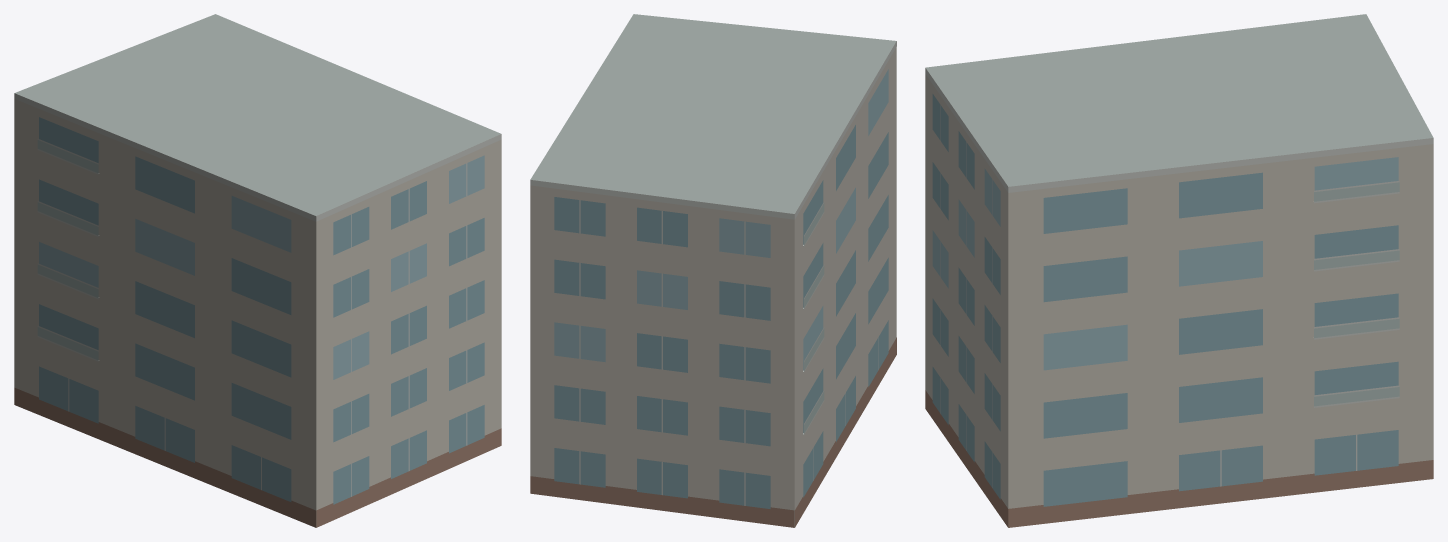
The model's file is survey-upis-32651562.glb.
3 views of the same model, side by side, from view 1: azimuth 30°, elevation 25°; view 2: azimuth 150°, elevation 25°; view 3: azimuth 270°, elevation 25° (orthographic). The views are drawn at different scales.
Parts seen in each view (by area): view 1: survey-upis-32651562.tmp; view 2: survey-upis-32651562.tmp; view 3: survey-upis-32651562.tmp.
Part boxes in pixels (x1,y1,x2,y2): survey-upis-32651562.tmp: [14, 14, 501, 527]; survey-upis-32651562.tmp: [530, 14, 896, 527]; survey-upis-32651562.tmp: [925, 14, 1433, 527].
Bounding box in the file's own units: 14.79 × 13.6 × 18.38.
